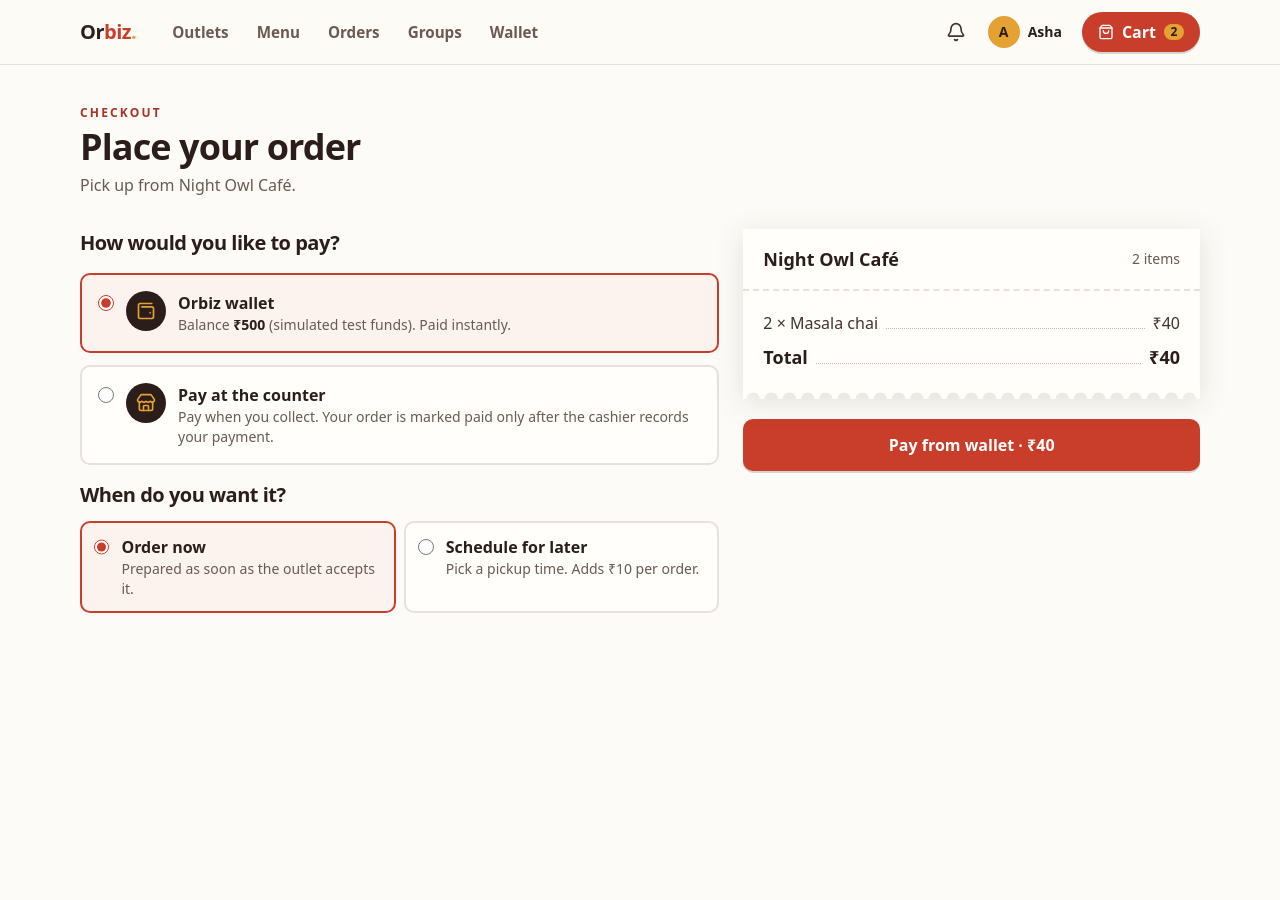
it: scheduling at checkout › explains when no slots are left and won’t submit
The image size is (1280, 900).
What coordinates should you click on to do the following:
click the radio button labelled "Schedule for later Pick a pickup time. Adds ₹10 per order."
I would click on:
 (426, 547)
Its box is [418, 539, 434, 555].
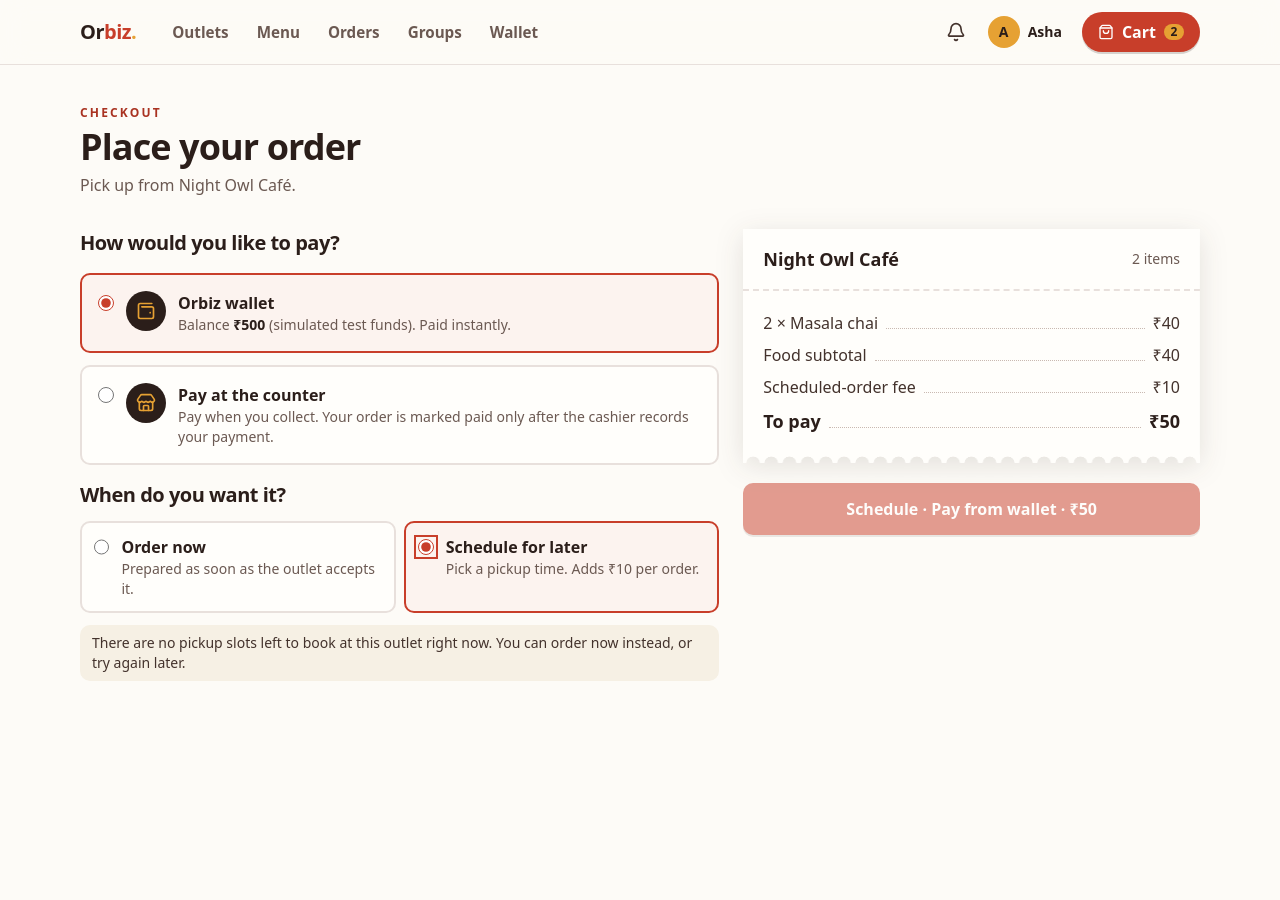
Now the text "no pickup slots left to book" is shown, box [92, 633, 692, 672]
Now the button "Schedule · Pay from wallet · ₹50" is disabled, box [743, 483, 1200, 535]
